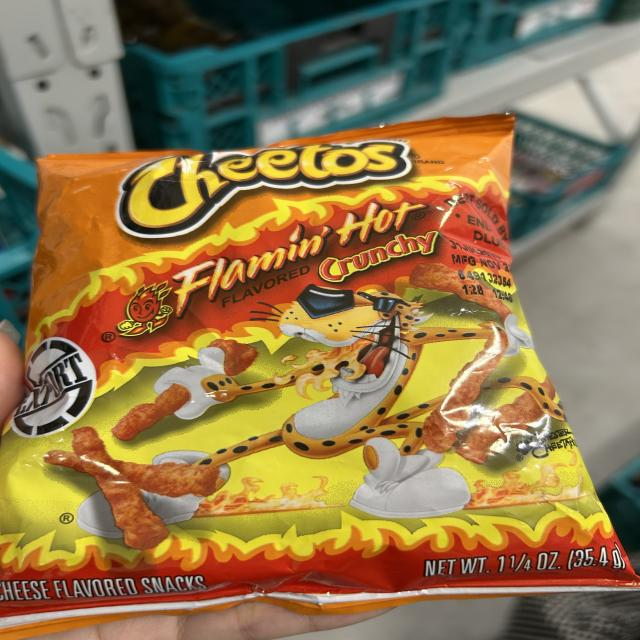object_name: (40, 162, 574, 580)
